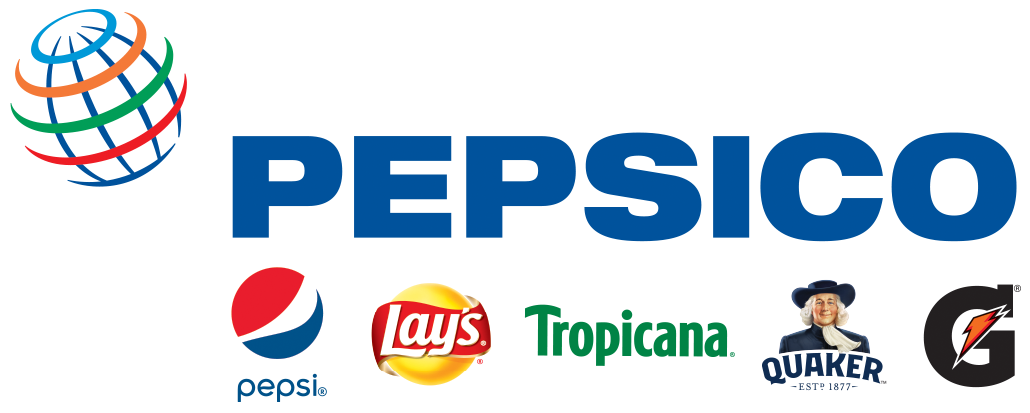pepsi: (226, 261, 326, 357), (226, 270, 326, 357)
